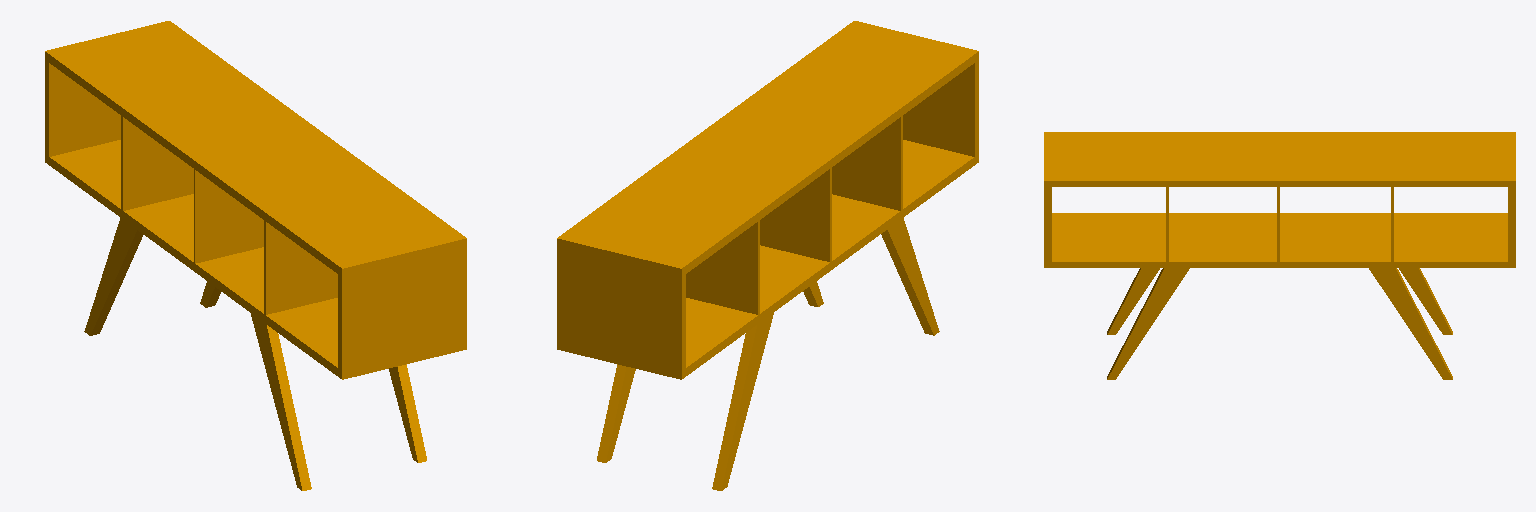
robot.urdf — object:
<?xml version="1.0"?>
<robot name="object">
  <link name="object">
    <visual>
      <origin xyz="0 0 0"/>
      <geometry>
        <mesh filename="mesh/model1.obj"/>
      </geometry>
    </visual>
    <collision>
      <origin xyz="0 0 0"/>
      <geometry>
        <mesh filename="mesh/model1.obj"/>
      </geometry>
    </collision>
     <inertial>
      <mass value="0.5"/>
      <inertia ixx="0.2" ixy="0.0" ixz="0.0" iyy="0.2" iyz="0.0" izz="0.2"/>
    </inertial>
  </link>
</robot>

--- Render facts (derived) ---
Views: 3 orthographic renders of the robot side by side, from view 1: azimuth 30°, elevation 25°; view 2: azimuth 150°, elevation 25°; view 3: azimuth 270°, elevation 25°.
Model object with 1 links and 0 joints (none), rooted at object, posed all joints at 0.
Links seen in each view (by area): view 1: object; view 2: object; view 3: object.
Boxes of the visible links, box(x1,y1,x2,y2) form: object: box(45, 21, 466, 490); object: box(557, 21, 978, 490); object: box(1044, 132, 1515, 379).
Bounding box of the posed robot: 0.2835 × 1.17 × 0.5457 m (x, y, z).
1 mesh visuals loaded from 1 distinct referenced files (1 OBJ).